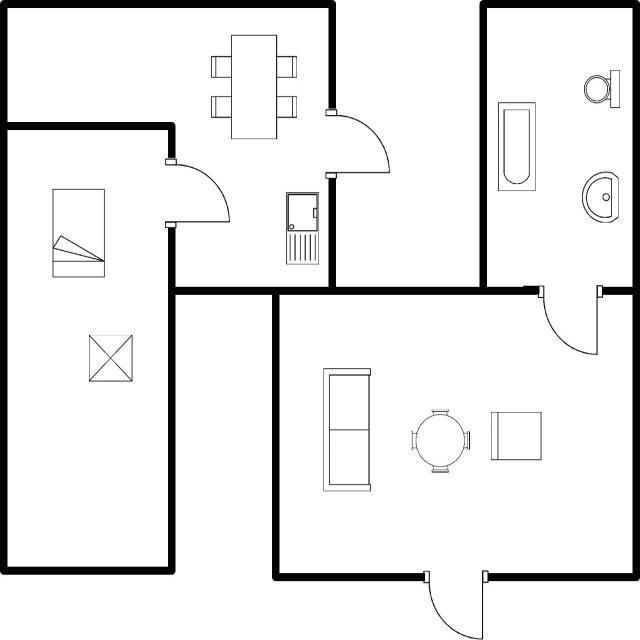bed: (46, 184, 110, 282)
coffee_table: (83, 327, 137, 387)
dining_table: (205, 29, 302, 144)
large_sink: (578, 64, 624, 116)
large_sofa: (317, 362, 375, 497)
round_table: (405, 404, 475, 478)
sink: (281, 188, 321, 268)
small_sink: (576, 166, 622, 227)
small_sofa: (486, 406, 546, 464)
tub: (494, 96, 540, 196)
